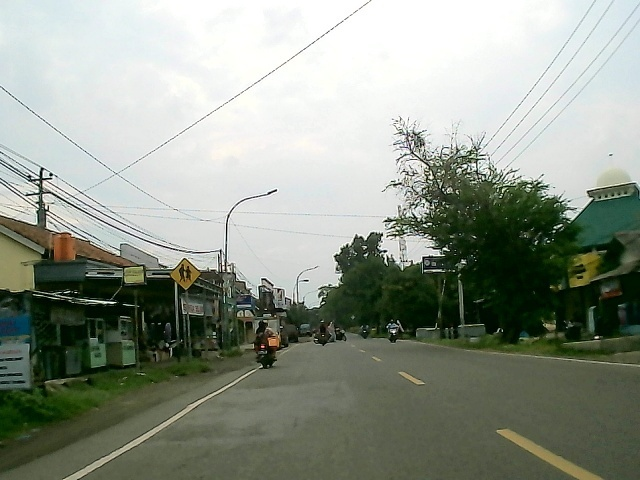Peringatan anak menyeberang: (169, 256, 202, 292)
